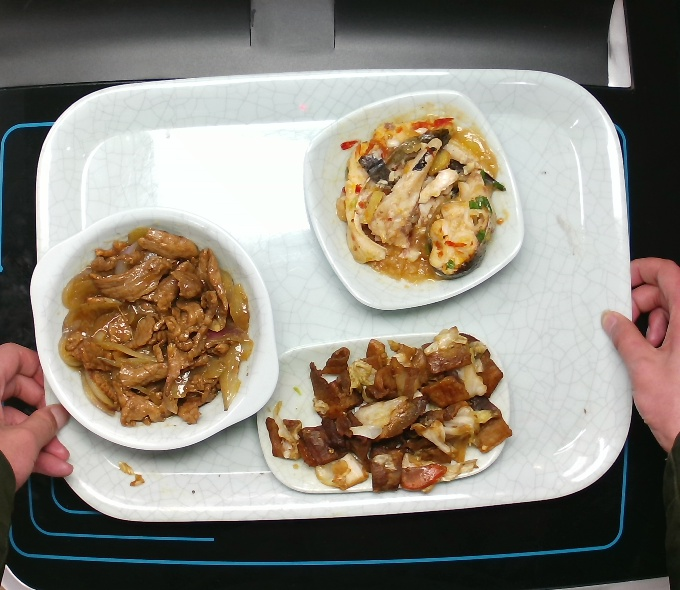wcq-DuoJiaoYuKuai: (323, 108, 510, 298)
wcq-PaoCaiRouPian: (265, 322, 521, 499)
wcq-YangCongRouPian: (52, 214, 262, 435)
